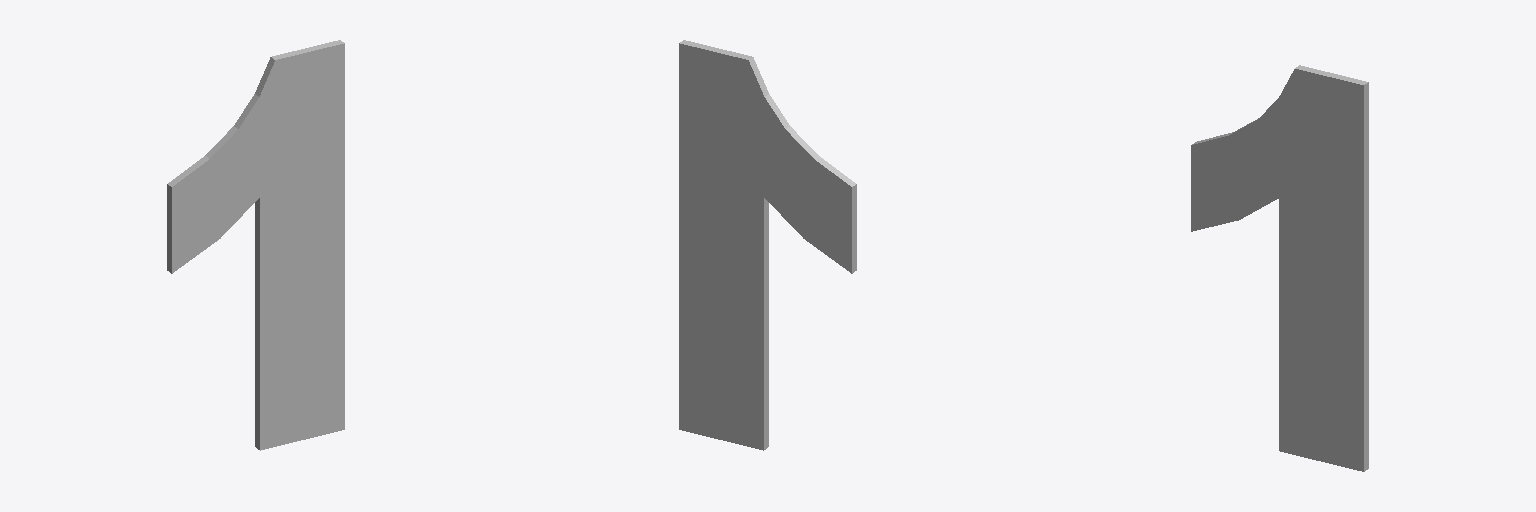
The model's file is tinker.obj.
The picture shows the model from 3 angles: view 1: azimuth 30°, elevation 25°; view 2: azimuth 150°, elevation 25°; view 3: azimuth 330°, elevation 25°; orthographic projection.
Visible parts, largest first — view 1: obj_0; view 2: obj_0; view 3: obj_0.
Part boxes in pixels (x1,y1,x2,y2): obj_0: (167, 40, 344, 450); obj_0: (679, 40, 856, 450); obj_0: (1191, 65, 1368, 471).
Size of the model in its own units: 86 by 184 by 4.